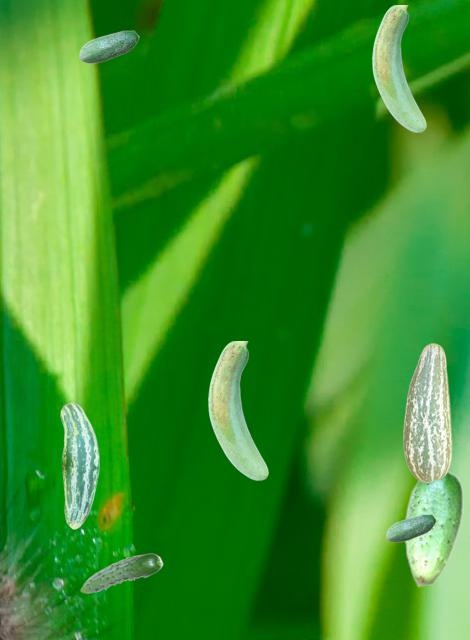cucumber: (208, 341, 267, 479), (404, 470, 462, 586), (372, 5, 425, 131), (403, 343, 451, 481), (60, 402, 98, 528), (80, 553, 162, 592), (79, 30, 138, 62), (386, 514, 435, 541)
